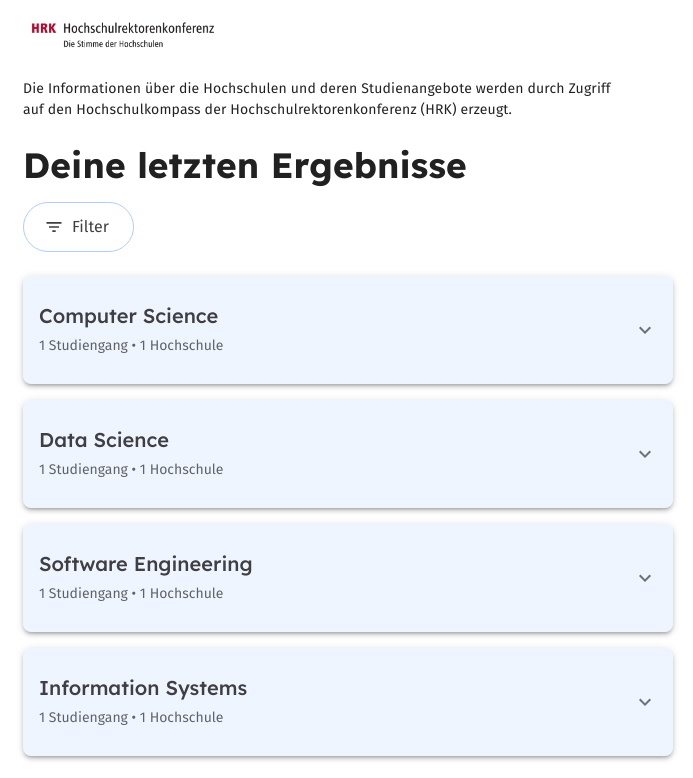
Test: Results Component › renders filter dropdowns with accessibility labels
This screenshot has width=693, height=778.
Click the filter button to open the popover
Click the button "Filter" at (78, 227), box [23,202,134,252]
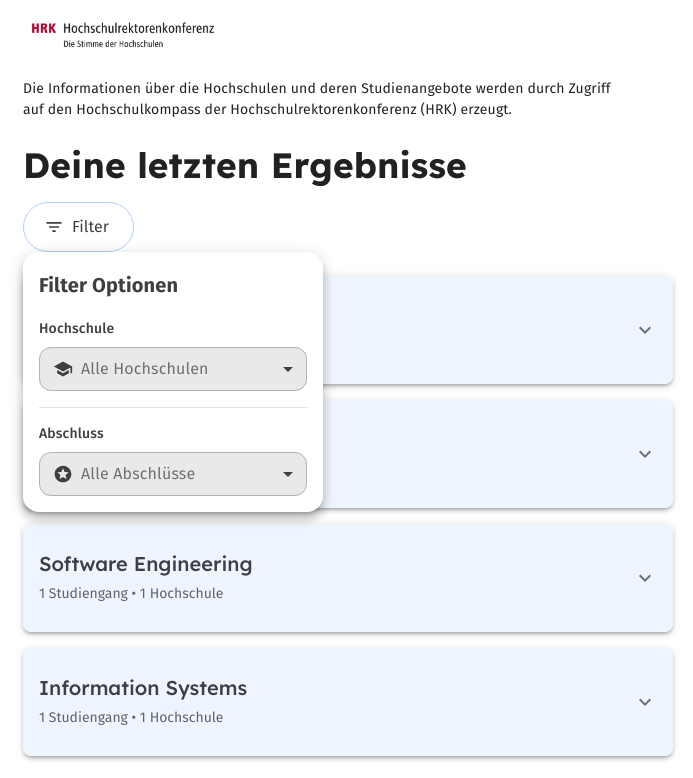
Result: the element named "Filter nach Hochschule" is shown at [39,347,307,391]
Result: the element named "Filter nach Abschluss" is shown at [39,452,307,496]
